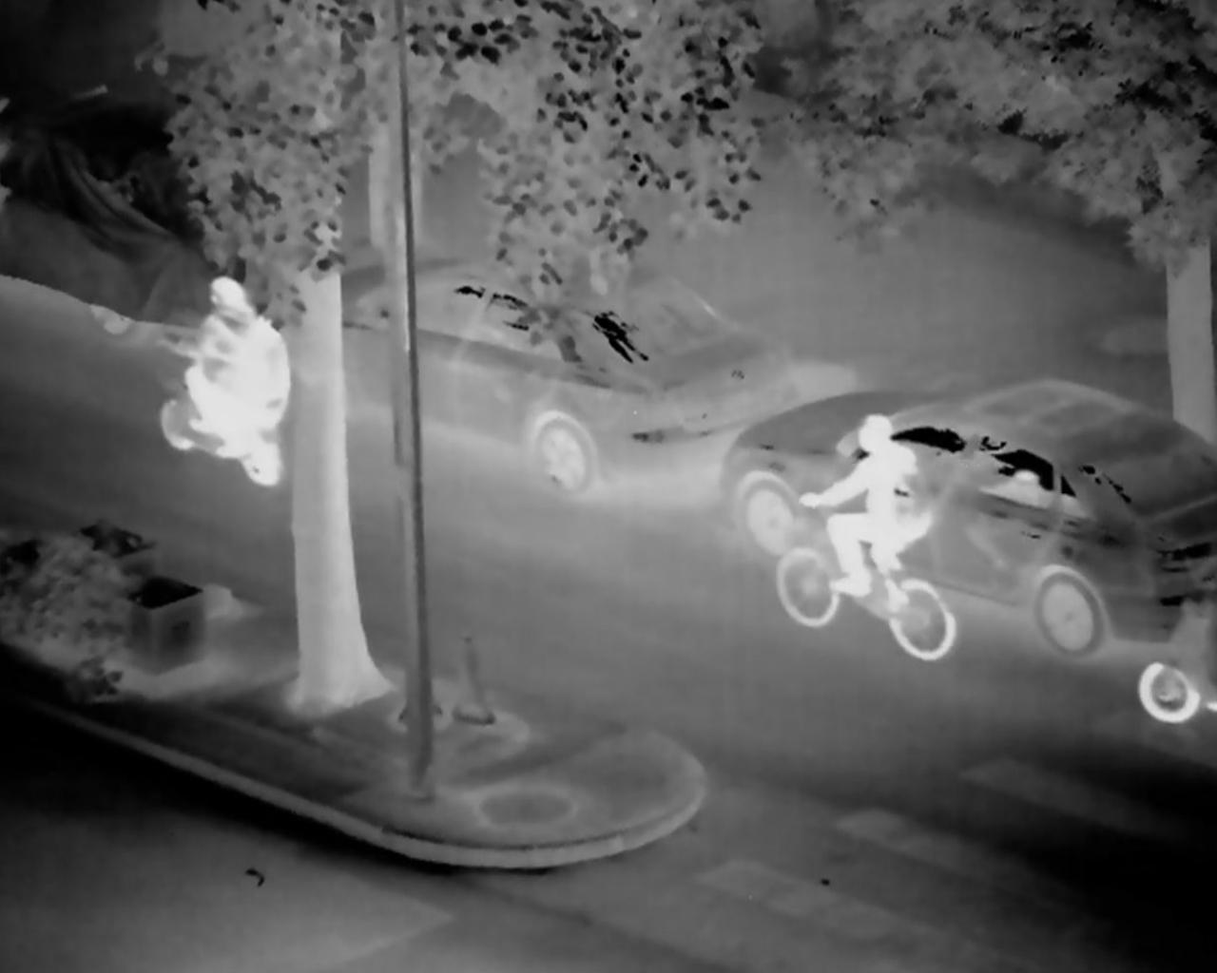person: (796, 411, 932, 622), (208, 303, 293, 457), (176, 270, 255, 433)
